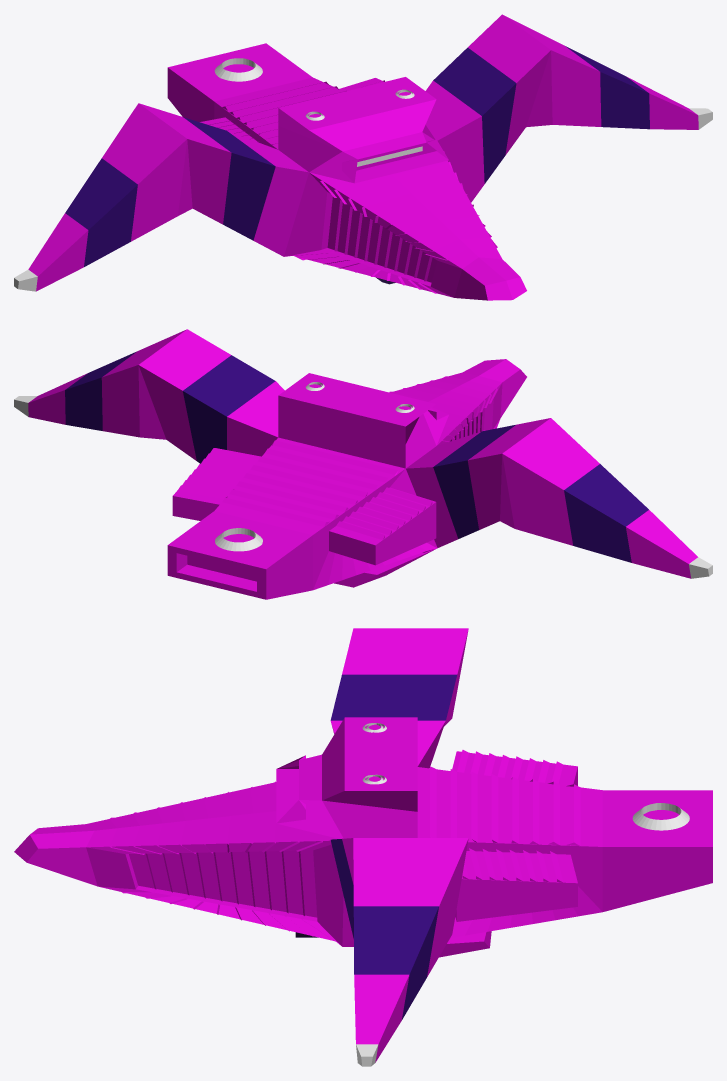
Rendered from Fledermaus(lila).fbx.
The picture shows the model from 3 angles, top to bottom: view 1: azimuth 30°, elevation 25°; view 2: azimuth 150°, elevation 25°; view 3: azimuth 270°, elevation 25°; orthographic projection. The views are drawn at different scales.
Parts seen in each view (by area): view 1: A_MAIN.001; view 2: A_MAIN.001; view 3: A_MAIN.001.
Part boxes in pixels (box(x1,y1,x2,y2)): A_MAIN.001: box(14, 14, 712, 300); A_MAIN.001: box(14, 329, 712, 599); A_MAIN.001: box(14, 628, 712, 1066).
Bounding box in the file's own units: 1536 × 369 × 1133.
